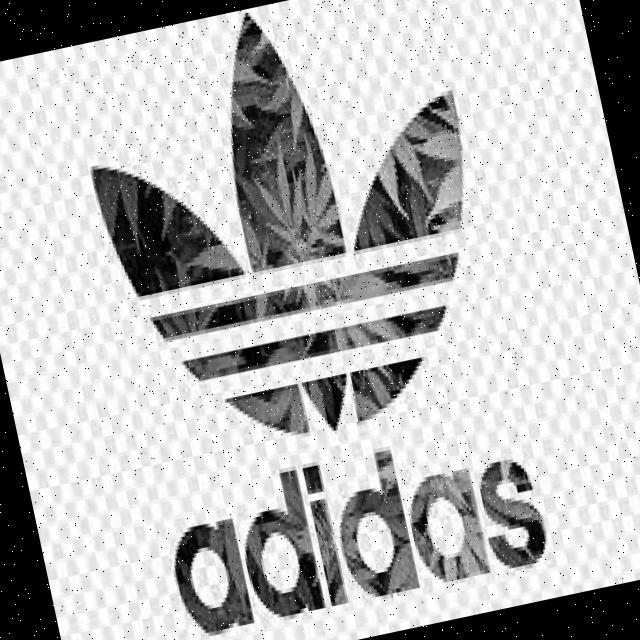Adidas: (58, 0, 526, 477)
